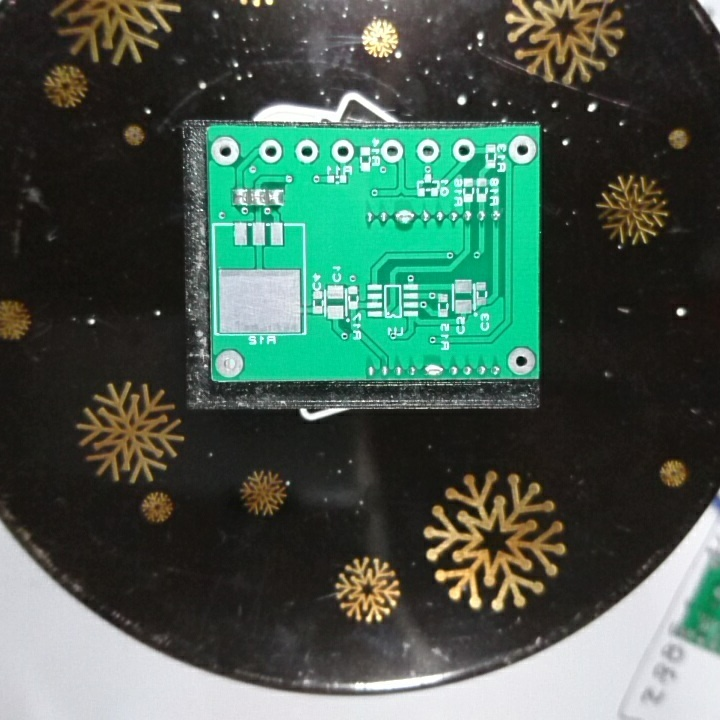F: (209, 134, 242, 167), (505, 134, 537, 167), (213, 348, 246, 380), (505, 346, 537, 378), (257, 138, 285, 167), (415, 137, 442, 165), (294, 138, 320, 166), (327, 140, 357, 164), (379, 138, 406, 164), (451, 138, 476, 163)
P: (392, 206, 417, 230), (422, 362, 445, 378)
